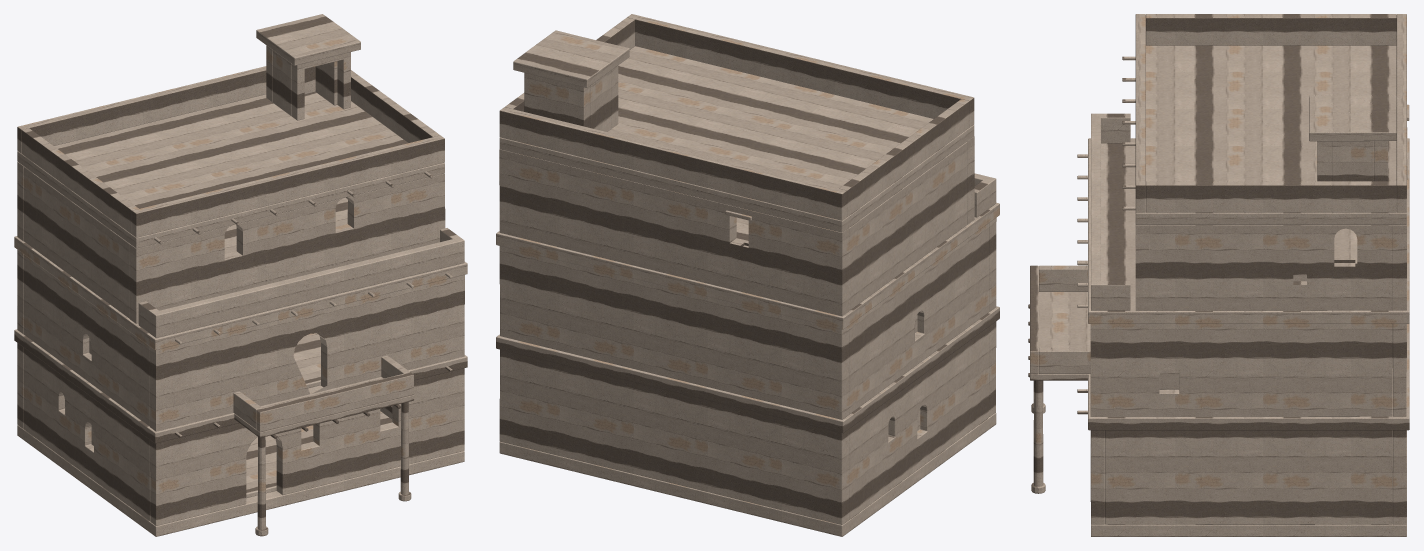
The model's file is house_5.glb.
3 views of the same model, side by side, from view 1: azimuth 30°, elevation 25°; view 2: azimuth 150°, elevation 25°; view 3: azimuth 270°, elevation 25° (orthographic). The views are drawn at different scales.
Parts seen in each view (by area): view 1: house; view 2: house; view 3: house.
Boxes of the visible parts, <box> form: house: <box>14,14,467,536</box>; house: <box>496,14,999,536</box>; house: <box>1028,14,1409,536</box>.
Size of the model in its own units: 12.18 by 13.1 by 11.29.
Materials: 1 (1 with a texture image).
